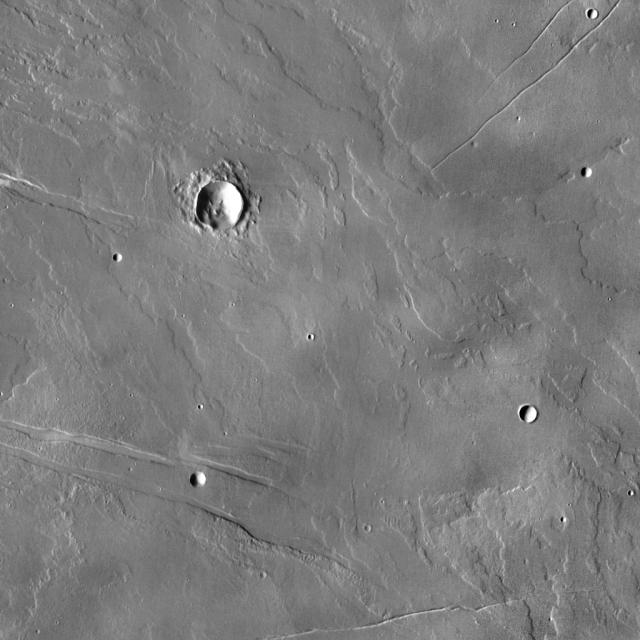crater: (197, 181, 246, 228), (524, 406, 540, 422), (194, 471, 208, 486), (584, 167, 594, 178), (116, 252, 126, 262), (592, 10, 602, 18), (367, 522, 374, 530), (256, 564, 262, 570)
